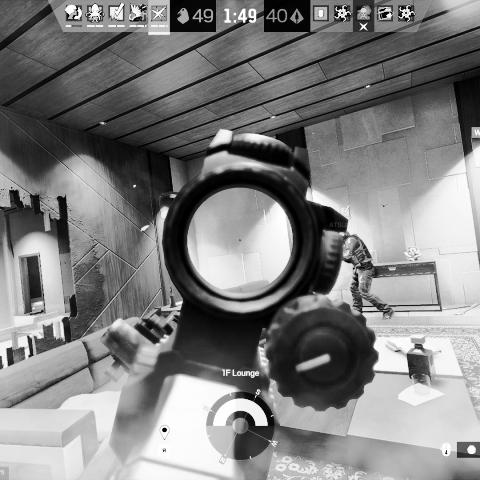Character: (334, 231, 396, 320)
Friend_label: (328, 205, 362, 229)
Head: (337, 231, 350, 241)
